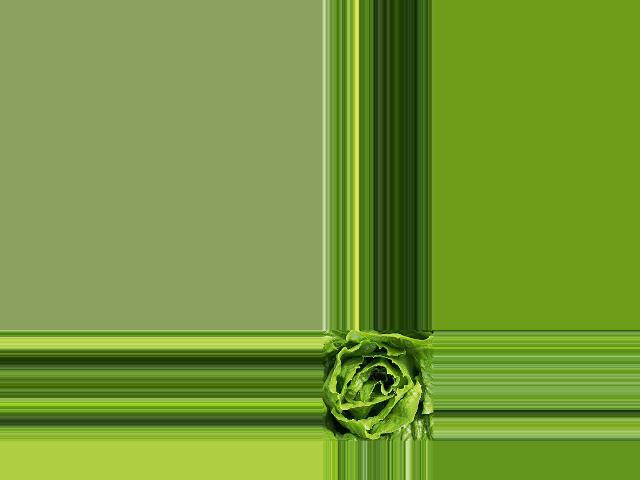lettuce: (323, 331, 434, 439)
